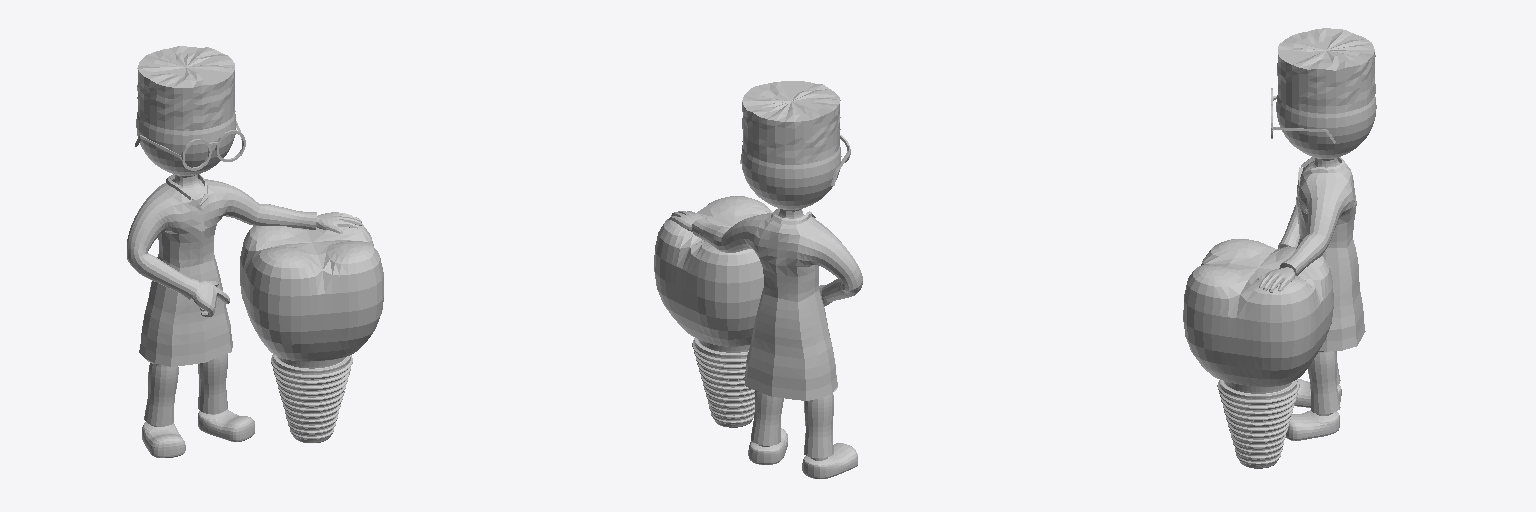
The model's file is doctor.obj.
3 renders of one model, left to right at view 1: azimuth 30°, elevation 25°; view 2: azimuth 150°, elevation 25°; view 3: azimuth 270°, elevation 25°, orthographic.
Parts seen in each view (by area): view 1: Cube.001_Cube.017; view 2: Cube.001_Cube.017; view 3: Cube.001_Cube.017.
Part boxes in pixels (x1,y1,x2,y2): Cube.001_Cube.017: (127, 46, 383, 457); Cube.001_Cube.017: (654, 81, 862, 478); Cube.001_Cube.017: (1183, 28, 1376, 468).
Bounding box in the file's own units: 10.88 × 17.39 × 8.27.